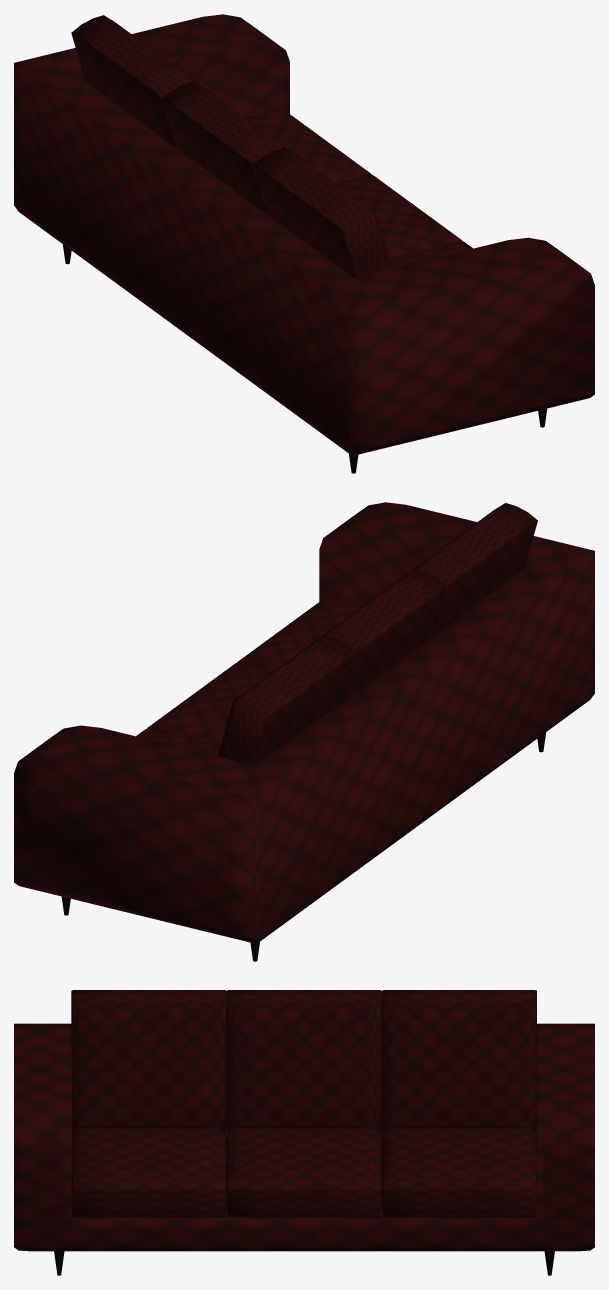
The model's file is Sofa_1.glb.
3 renders of one model, top to bottom at view 1: azimuth 30°, elevation 25°; view 2: azimuth 150°, elevation 25°; view 3: azimuth 270°, elevation 25°, orthographic. The views are drawn at different scales.
Parts seen in each view (by area): view 1: Cube_0, Cube.002_3, Cube.001_2; view 2: Cube_0, Cube.002_3, Cube.001_2; view 3: Cube.002_3, Cube_0, Cube.001_2, Cylinder_1.
Boxes of the visible parts, x1,y1,x2,y2 form: Cube_0: (14, 14, 594, 455); Cube.002_3: (71, 15, 391, 277); Cube.001_2: (245, 108, 472, 268); Cube_0: (14, 502, 594, 943); Cube.002_3: (217, 503, 537, 765); Cube.001_2: (136, 596, 364, 755); Cube.002_3: (71, 990, 536, 1131); Cube_0: (14, 1023, 594, 1251); Cube.001_2: (71, 1128, 536, 1217); Cylinder_1: (54, 1251, 554, 1275).
Bounding box in the file's own units: 2 × 1.95 × 4.85.
4 materials, 3 textured.
